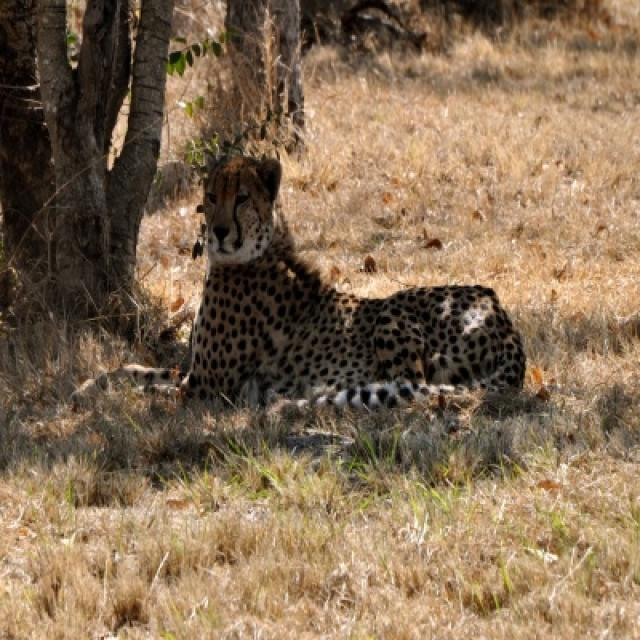Cheetah: (182, 158, 522, 408)
